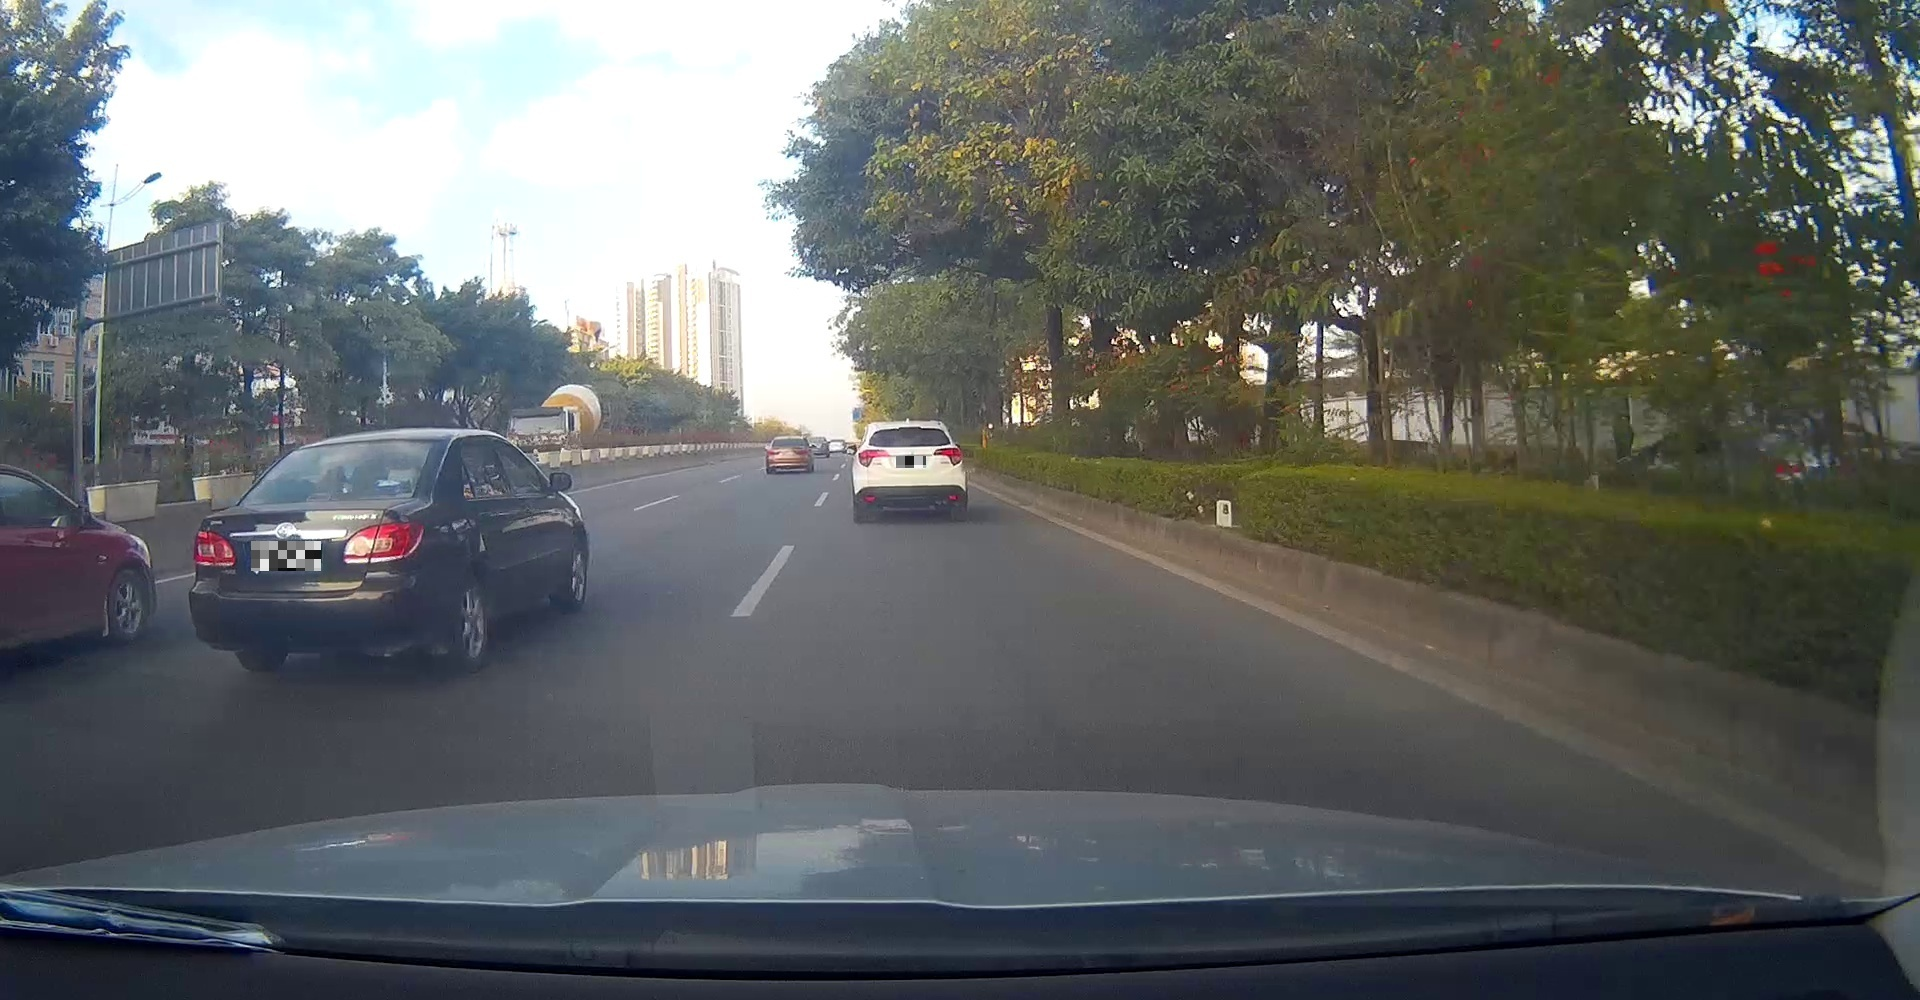L_light: (194, 530, 235, 566), (857, 449, 889, 466), (766, 451, 780, 456)
R_light: (342, 522, 424, 563), (932, 448, 964, 466), (794, 451, 808, 456)
T_light: (303, 492, 331, 501), (899, 426, 922, 431), (785, 438, 792, 440)
day-no: (190, 429, 425, 671), (852, 420, 966, 522), (766, 437, 809, 475)
plate_1: (251, 541, 321, 571)
plate_2: (897, 456, 926, 468)
